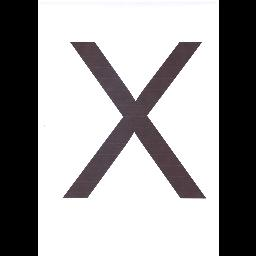x: (60, 37, 204, 205)
